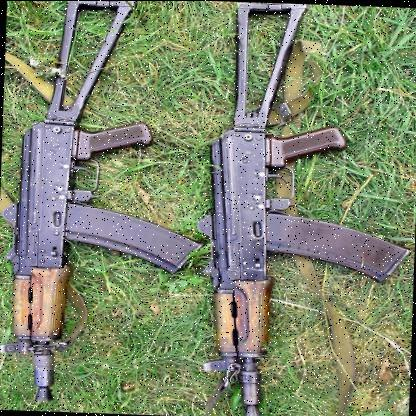rifle: (197, 4, 411, 416), (0, 0, 208, 407)
